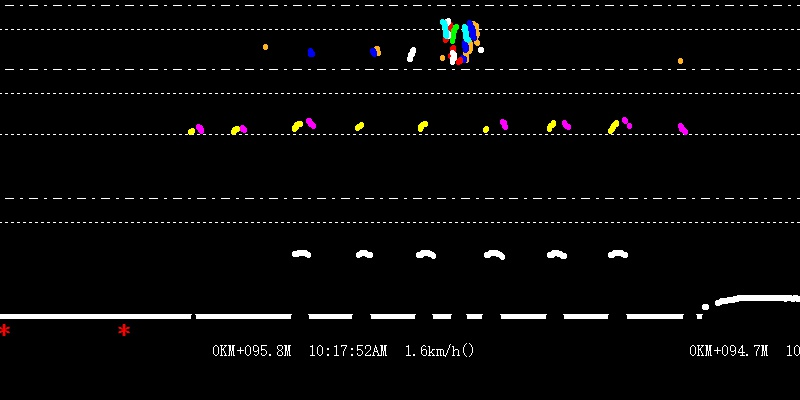J: (437, 1, 480, 65)
star: (116, 322, 133, 336)
